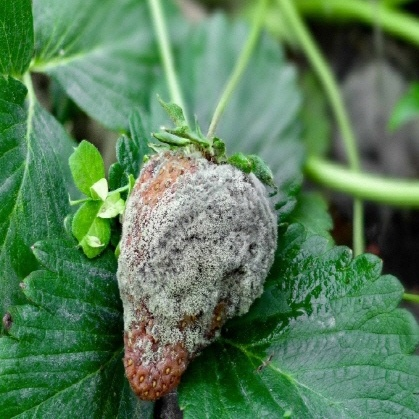Gray_Mold: (115, 17, 280, 274)
